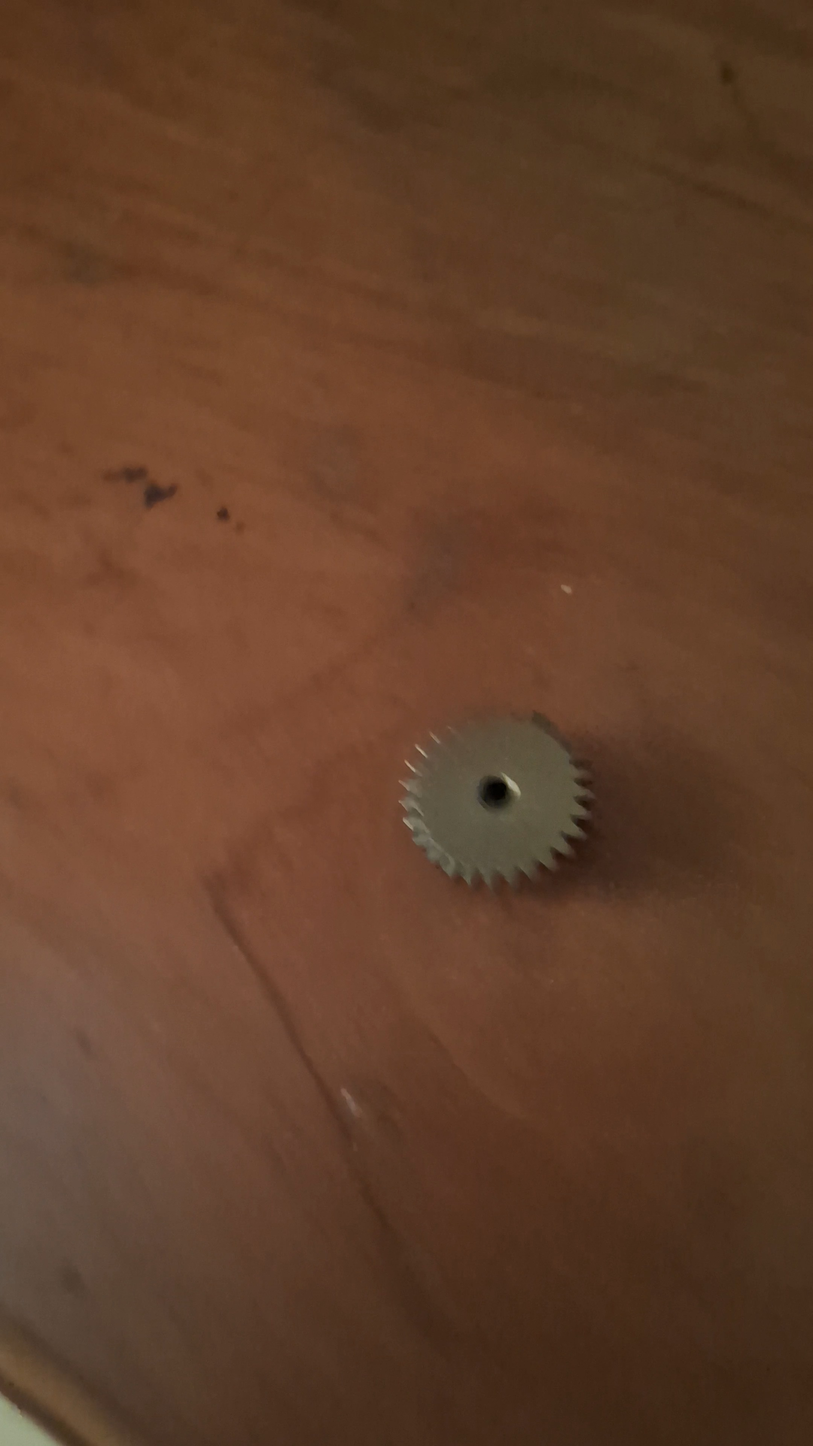spur gear: (402, 714, 592, 886)
